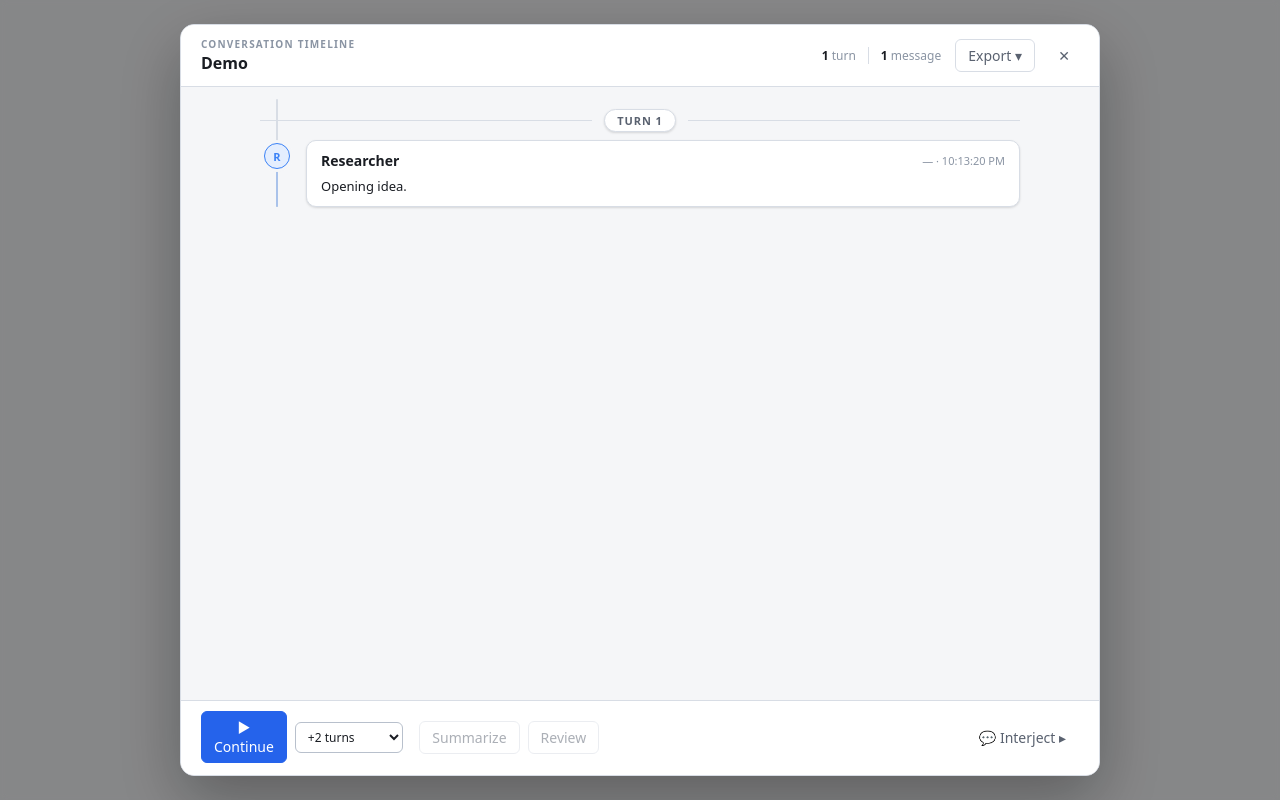
Test: TimelinePage footer tools › reports a copy failure when the clipboard is unavailable
The image size is (1280, 800).
Click the button "Export ▾". click: coordinates (995, 56)
box: [955, 39, 1035, 72]
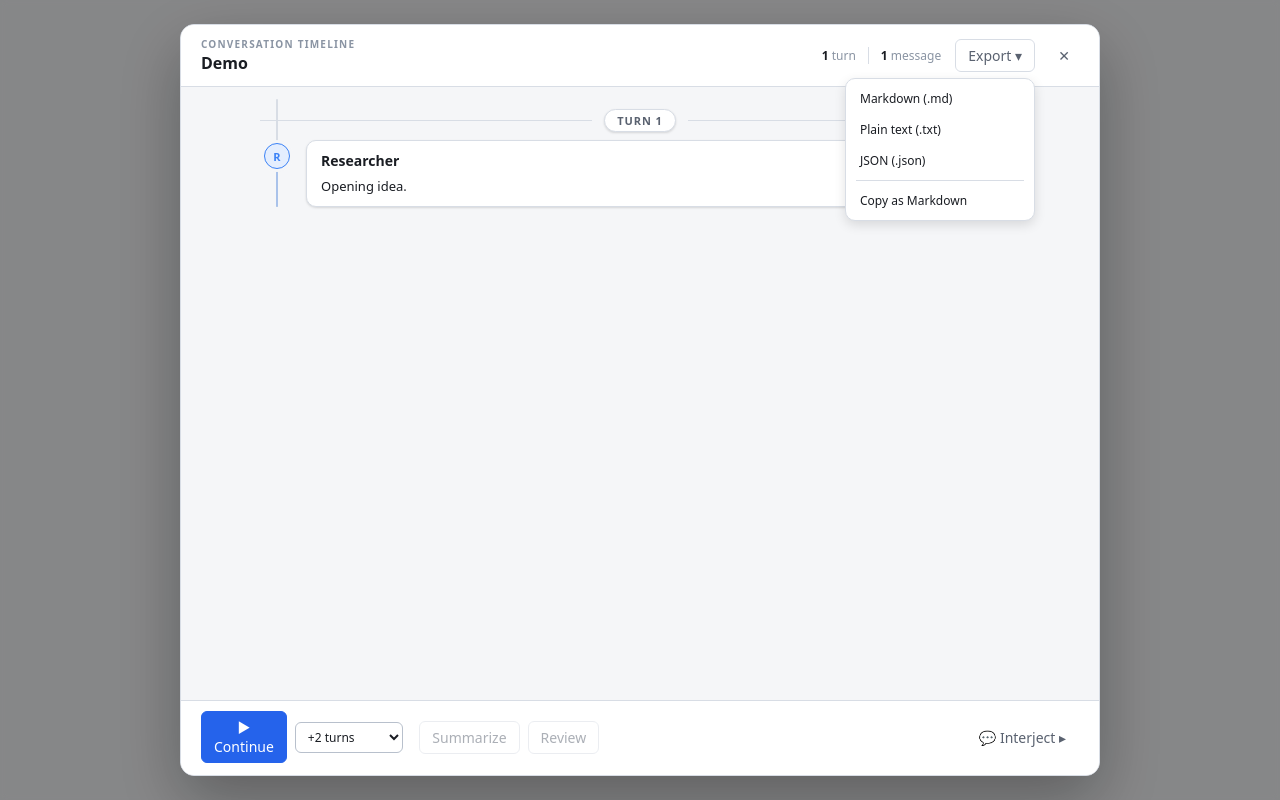
Click the menu item "Copy as Markdown". click: coordinates (940, 200)
box: [850, 185, 1030, 216]
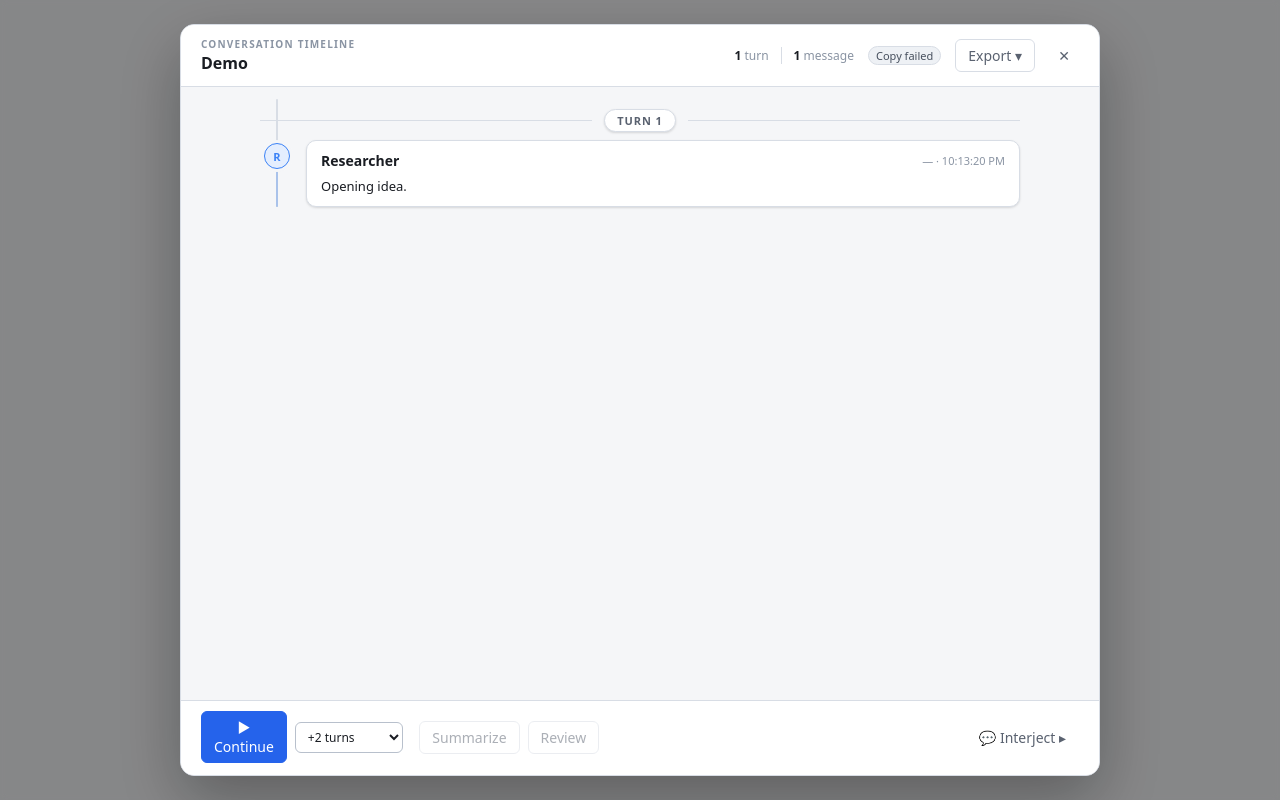
Expected: the text "Copy failed" is shown, [868, 46, 941, 65]
